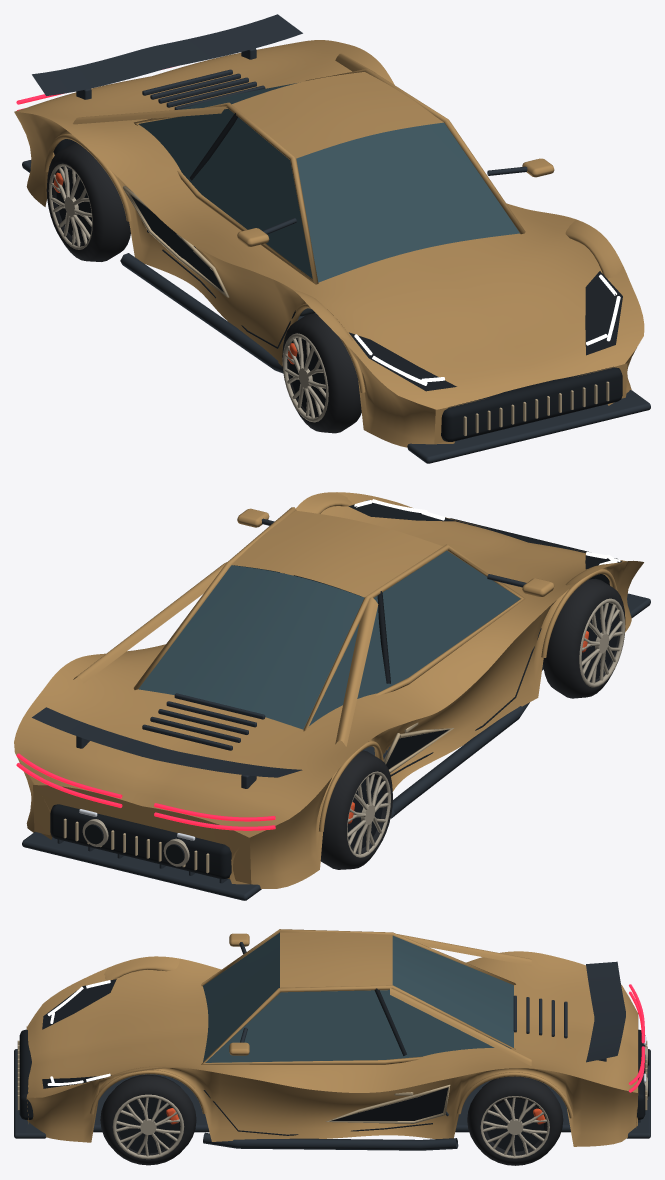
File: orion-r-lod.glb
The picture shows the model from 3 angles, top to bottom: view 1: azimuth 30°, elevation 25°; view 2: azimuth 150°, elevation 25°; view 3: azimuth 270°, elevation 25°; orthographic projection. The views are drawn at different scales.
Parts seen in each view (by area): view 1: Formed aluminium upper, Laminated windshield, Undercut sill, Flush side glass, Canopy roof, Swan tail, Recessed bumper, Radial tire.002, Radial tire, Splitter, Forged-carbon side skirt, Painted roof rail (+11 smaller); view 2: Formed aluminium upper, Engine cover glass, Undercut sill, Flush side glass, Canopy roof, Bumper skin.001, Recessed bumper.001, Radial tire, Radial tire.002, Diffuser lip, Swan tail, Painted roof rail (+17 smaller); view 3: Formed aluminium upper, Undercut sill.001, Flush side glass.001, Engine cover glass, Canopy roof, Laminated windshield, Radial tire.003, Radial tire.001, Swan tail, Forged-carbon side skirt.001, Painted roof rail.001, Side radiator inlet.001 (+19 smaller).
Part boxes in pixels (box(x1,y1,x2,y2)): Formed aluminium upper: box(14, 40, 644, 409); Laminated windshield: box(296, 122, 519, 282); Undercut sill: box(14, 112, 454, 447); Flush side glass: box(138, 109, 312, 278); Canopy roof: box(232, 72, 443, 158); Swan tail: box(32, 14, 302, 95); Recessed bumper: box(441, 366, 622, 441); Radial tire.002: box(46, 142, 130, 261); Radial tire: box(282, 313, 361, 433); Splitter: box(407, 390, 650, 463); Forged-carbon side skirt: box(120, 253, 283, 373); Painted roof rail: box(134, 102, 318, 284); Formed aluminium upper: box(14, 492, 626, 837); Engine cover glass: box(138, 565, 364, 729); Undercut sill: box(230, 560, 643, 888); Flush side glass: box(309, 550, 520, 725); Canopy roof: box(232, 510, 442, 597); Bumper skin.001: box(33, 785, 251, 884); Recessed bumper.001: box(50, 804, 231, 879); Radial tire: box(543, 578, 625, 698); Radial tire.002: box(320, 750, 392, 869); Diffuser lip: box(22, 832, 261, 900); Swan tail: box(32, 707, 302, 777); Painted roof rail: box(303, 544, 525, 731); Formed aluminium upper: box(27, 951, 637, 1097); Undercut sill.001: box(27, 1066, 637, 1146); Flush side glass.001: box(205, 990, 510, 1062); Engine cover glass: box(392, 935, 513, 1047); Canopy roof: box(280, 932, 392, 987); Laminated windshield: box(203, 932, 279, 1061); Radial tire.003: box(467, 1076, 563, 1165); Radial tire.001: box(100, 1074, 196, 1165); Swan tail: box(586, 961, 625, 1062); Forged-carbon side skirt.001: box(203, 1132, 458, 1150); Painted roof rail.001: box(201, 985, 515, 1064); Side radiator inlet.001: box(330, 1087, 448, 1121).
Size of the model in its own units: 2.2 by 1.38 by 5.04.
